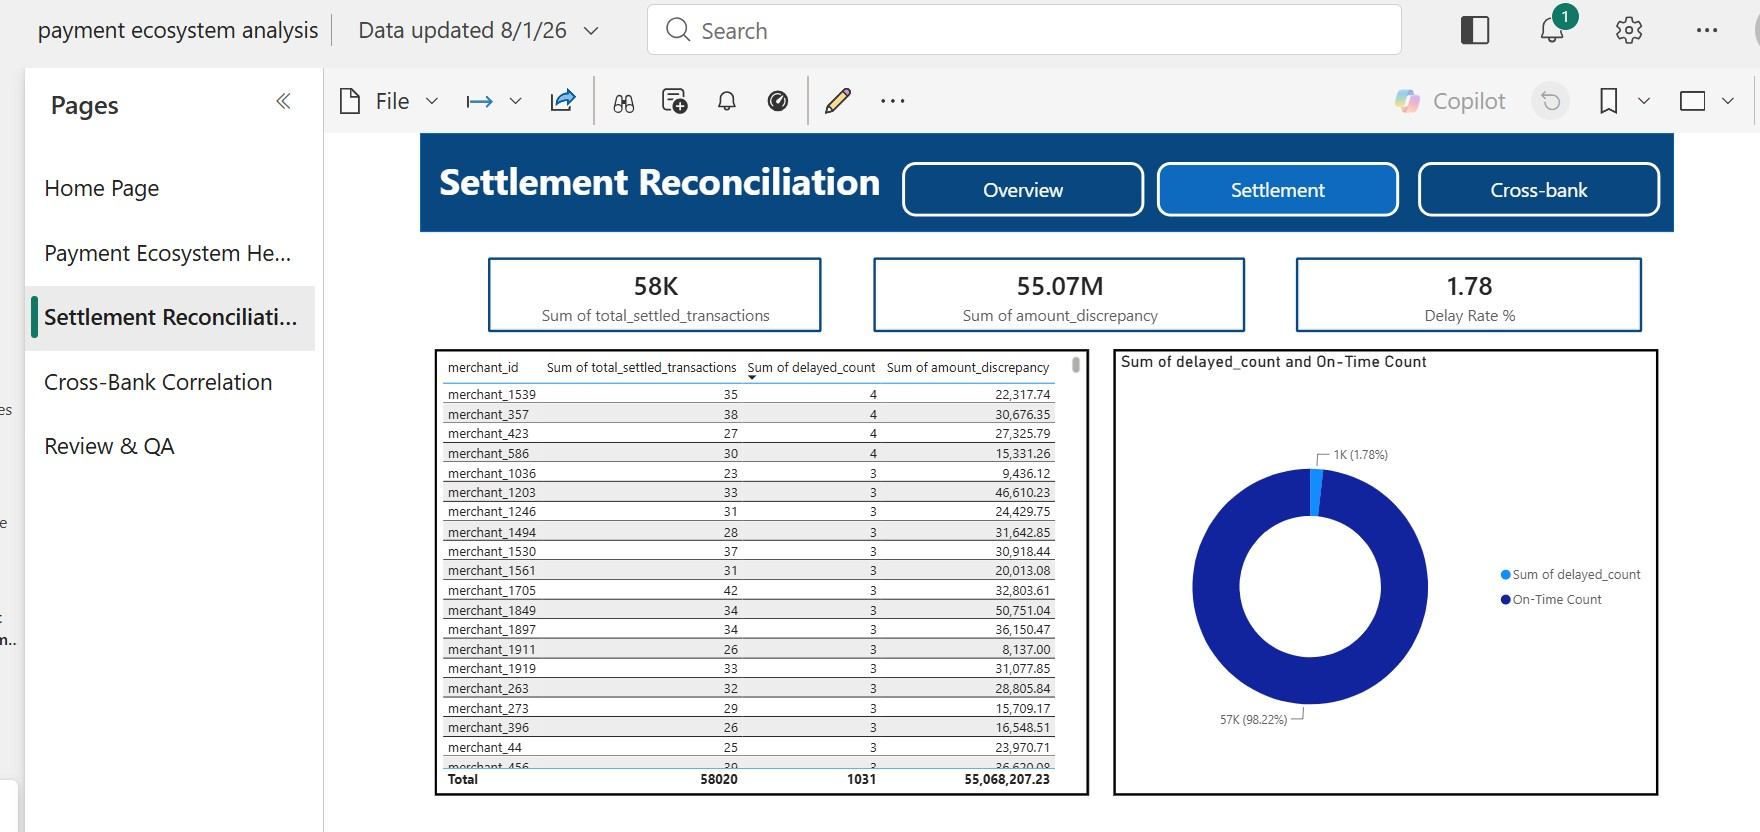

What the dashboard file says about the page in this screenshot:
{"tool":"powerbi","page":{"name":"Settlement Reconciliation","canvas":[1280,720],"ordinal":2},"visuals":[{"type":"cardVisual","fields":{"Data":["Sum(mart_settlement_reconciliation.total_settled_transactions)"]},"box":[53.3,110.1,374.7,110.1],"z":0},{"type":"cardVisual","fields":{"Data":["Sum(mart_settlement_reconciliation.amount_discrepancy)"]},"box":[445.7,110.1,413.7,110.1],"z":1000},{"type":"cardVisual","fields":{"Data":["mart_correlation_summary.Delay Rate %"]},"box":[877.2,110.1,387.1,110.1],"z":2000},{"type":"tableEx","fields":{"Values":["mart_settlement_reconciliation.merchant_id","Sum(mart_settlement_reconciliation.total_settled_transactions)","Sum(mart_settlement_reconciliation.delayed_count)","Sum(mart_settlement_reconciliation.amount_discrepancy)"]},"box":[14,220,668,456],"z":3000},{"type":"donutChart","fields":{"Y":["Sum(mart_settlement_reconciliation.delayed_count)","mart_correlation_summary.On-Time Count"]},"box":[708,220,556,456],"z":4000},{"type":"shape","box":[0,0,1280.2,101.2],"z":5000},{"type":"shape","box":[491.9,30.2,247.3,55.7],"z":6000},{"type":"shape","box":[752.9,30.2,247.3,55.7],"z":7000},{"type":"shape","box":[1019.2,30.2,247.3,55.7],"z":8000},{"type":"textbox","box":[14.2,17.8,477.7,83.5],"z":9000}]}

Visuals, with their boxes on the page's 1280x720 design canvas (x1, y1, x2, y2). These are canvas units, not pixel positions in the 1760x832 screenshot, which may show the page scaled, cropped or inside an application window:
cardVisual - Sum(mart_settlement_reconciliation.total_settled_transactions): left=53, top=110, right=428, bottom=220
cardVisual - Sum(mart_settlement_reconciliation.amount_discrepancy): left=446, top=110, right=859, bottom=220
cardVisual - mart_correlation_summary.Delay Rate %: left=877, top=110, right=1264, bottom=220
tableEx - mart_settlement_reconciliation.merchant_id x Sum(mart_settlement_reconciliation.total_settled_transactions): left=14, top=220, right=682, bottom=676
donutChart - Sum(mart_settlement_reconciliation.delayed_count) x mart_correlation_summary.On-Time Count: left=708, top=220, right=1264, bottom=676
shape: left=0, top=0, right=1280, bottom=101
shape: left=492, top=30, right=739, bottom=86
shape: left=753, top=30, right=1000, bottom=86
shape: left=1019, top=30, right=1266, bottom=86
textbox: left=14, top=18, right=492, bottom=101
